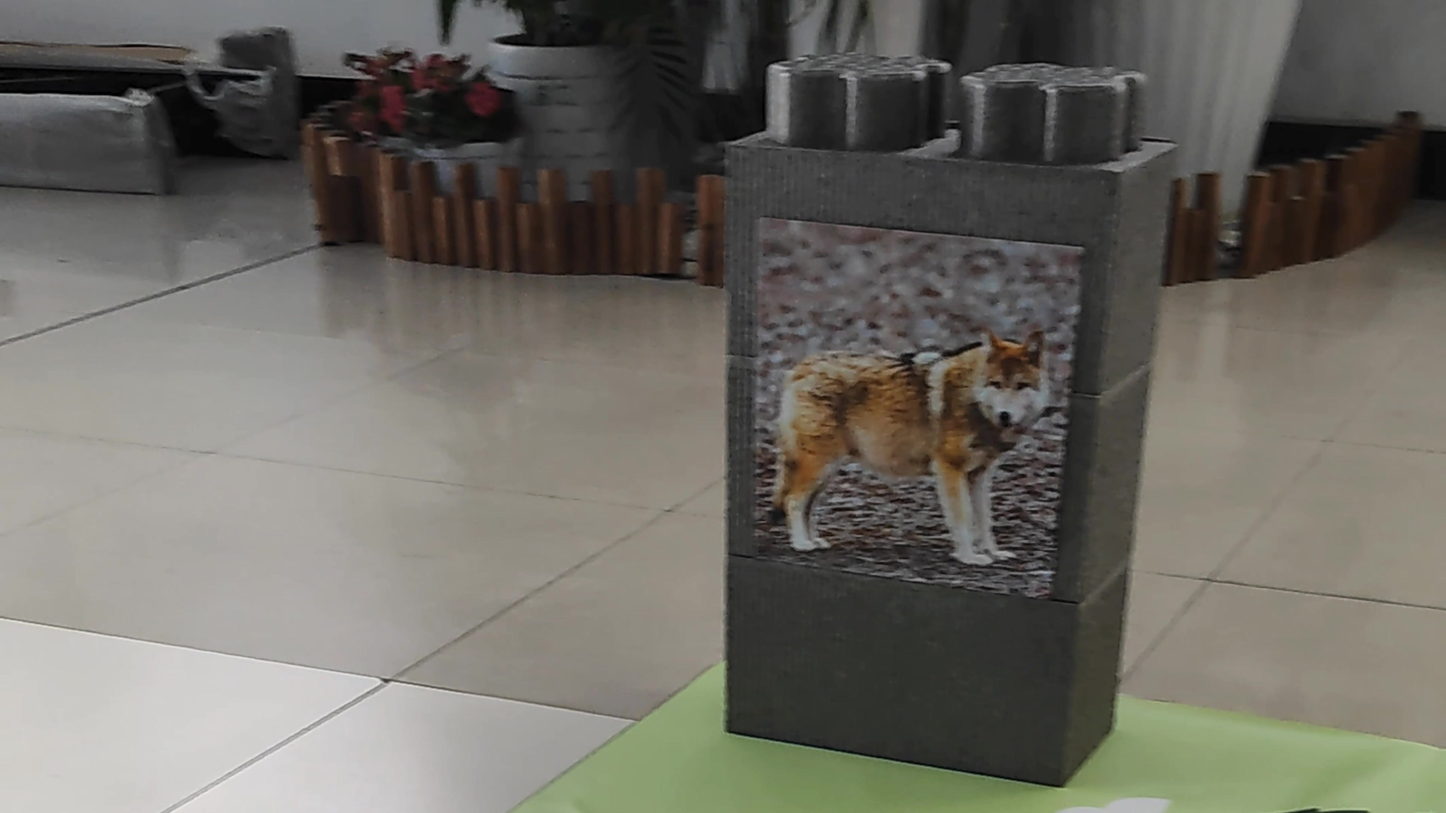wolf: (761, 222, 1054, 559)
